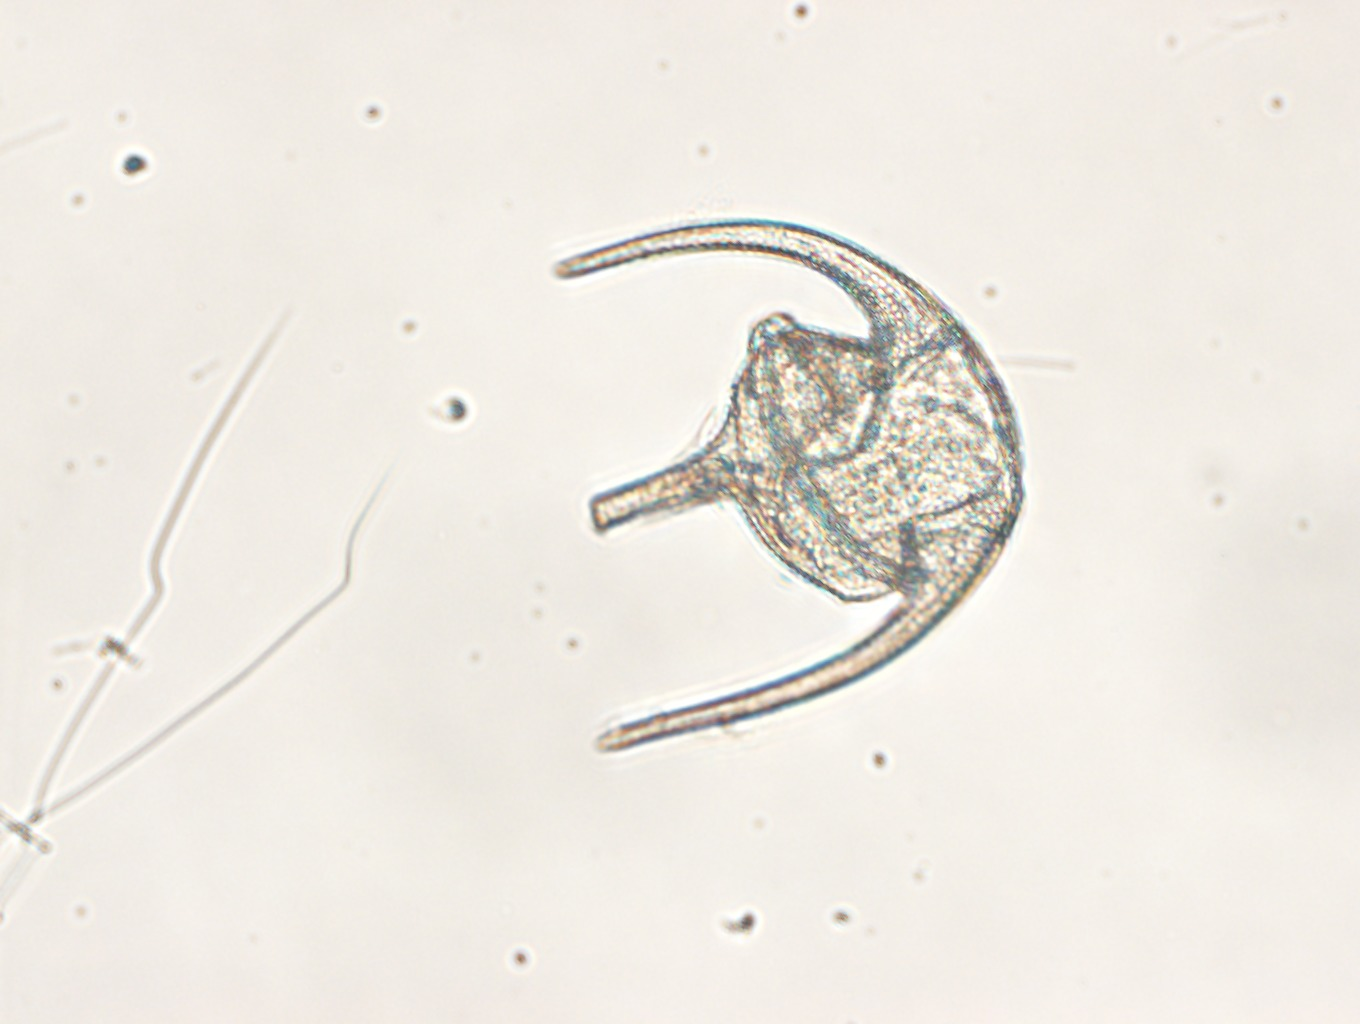ceratium tripos: (552, 217, 1023, 751)
